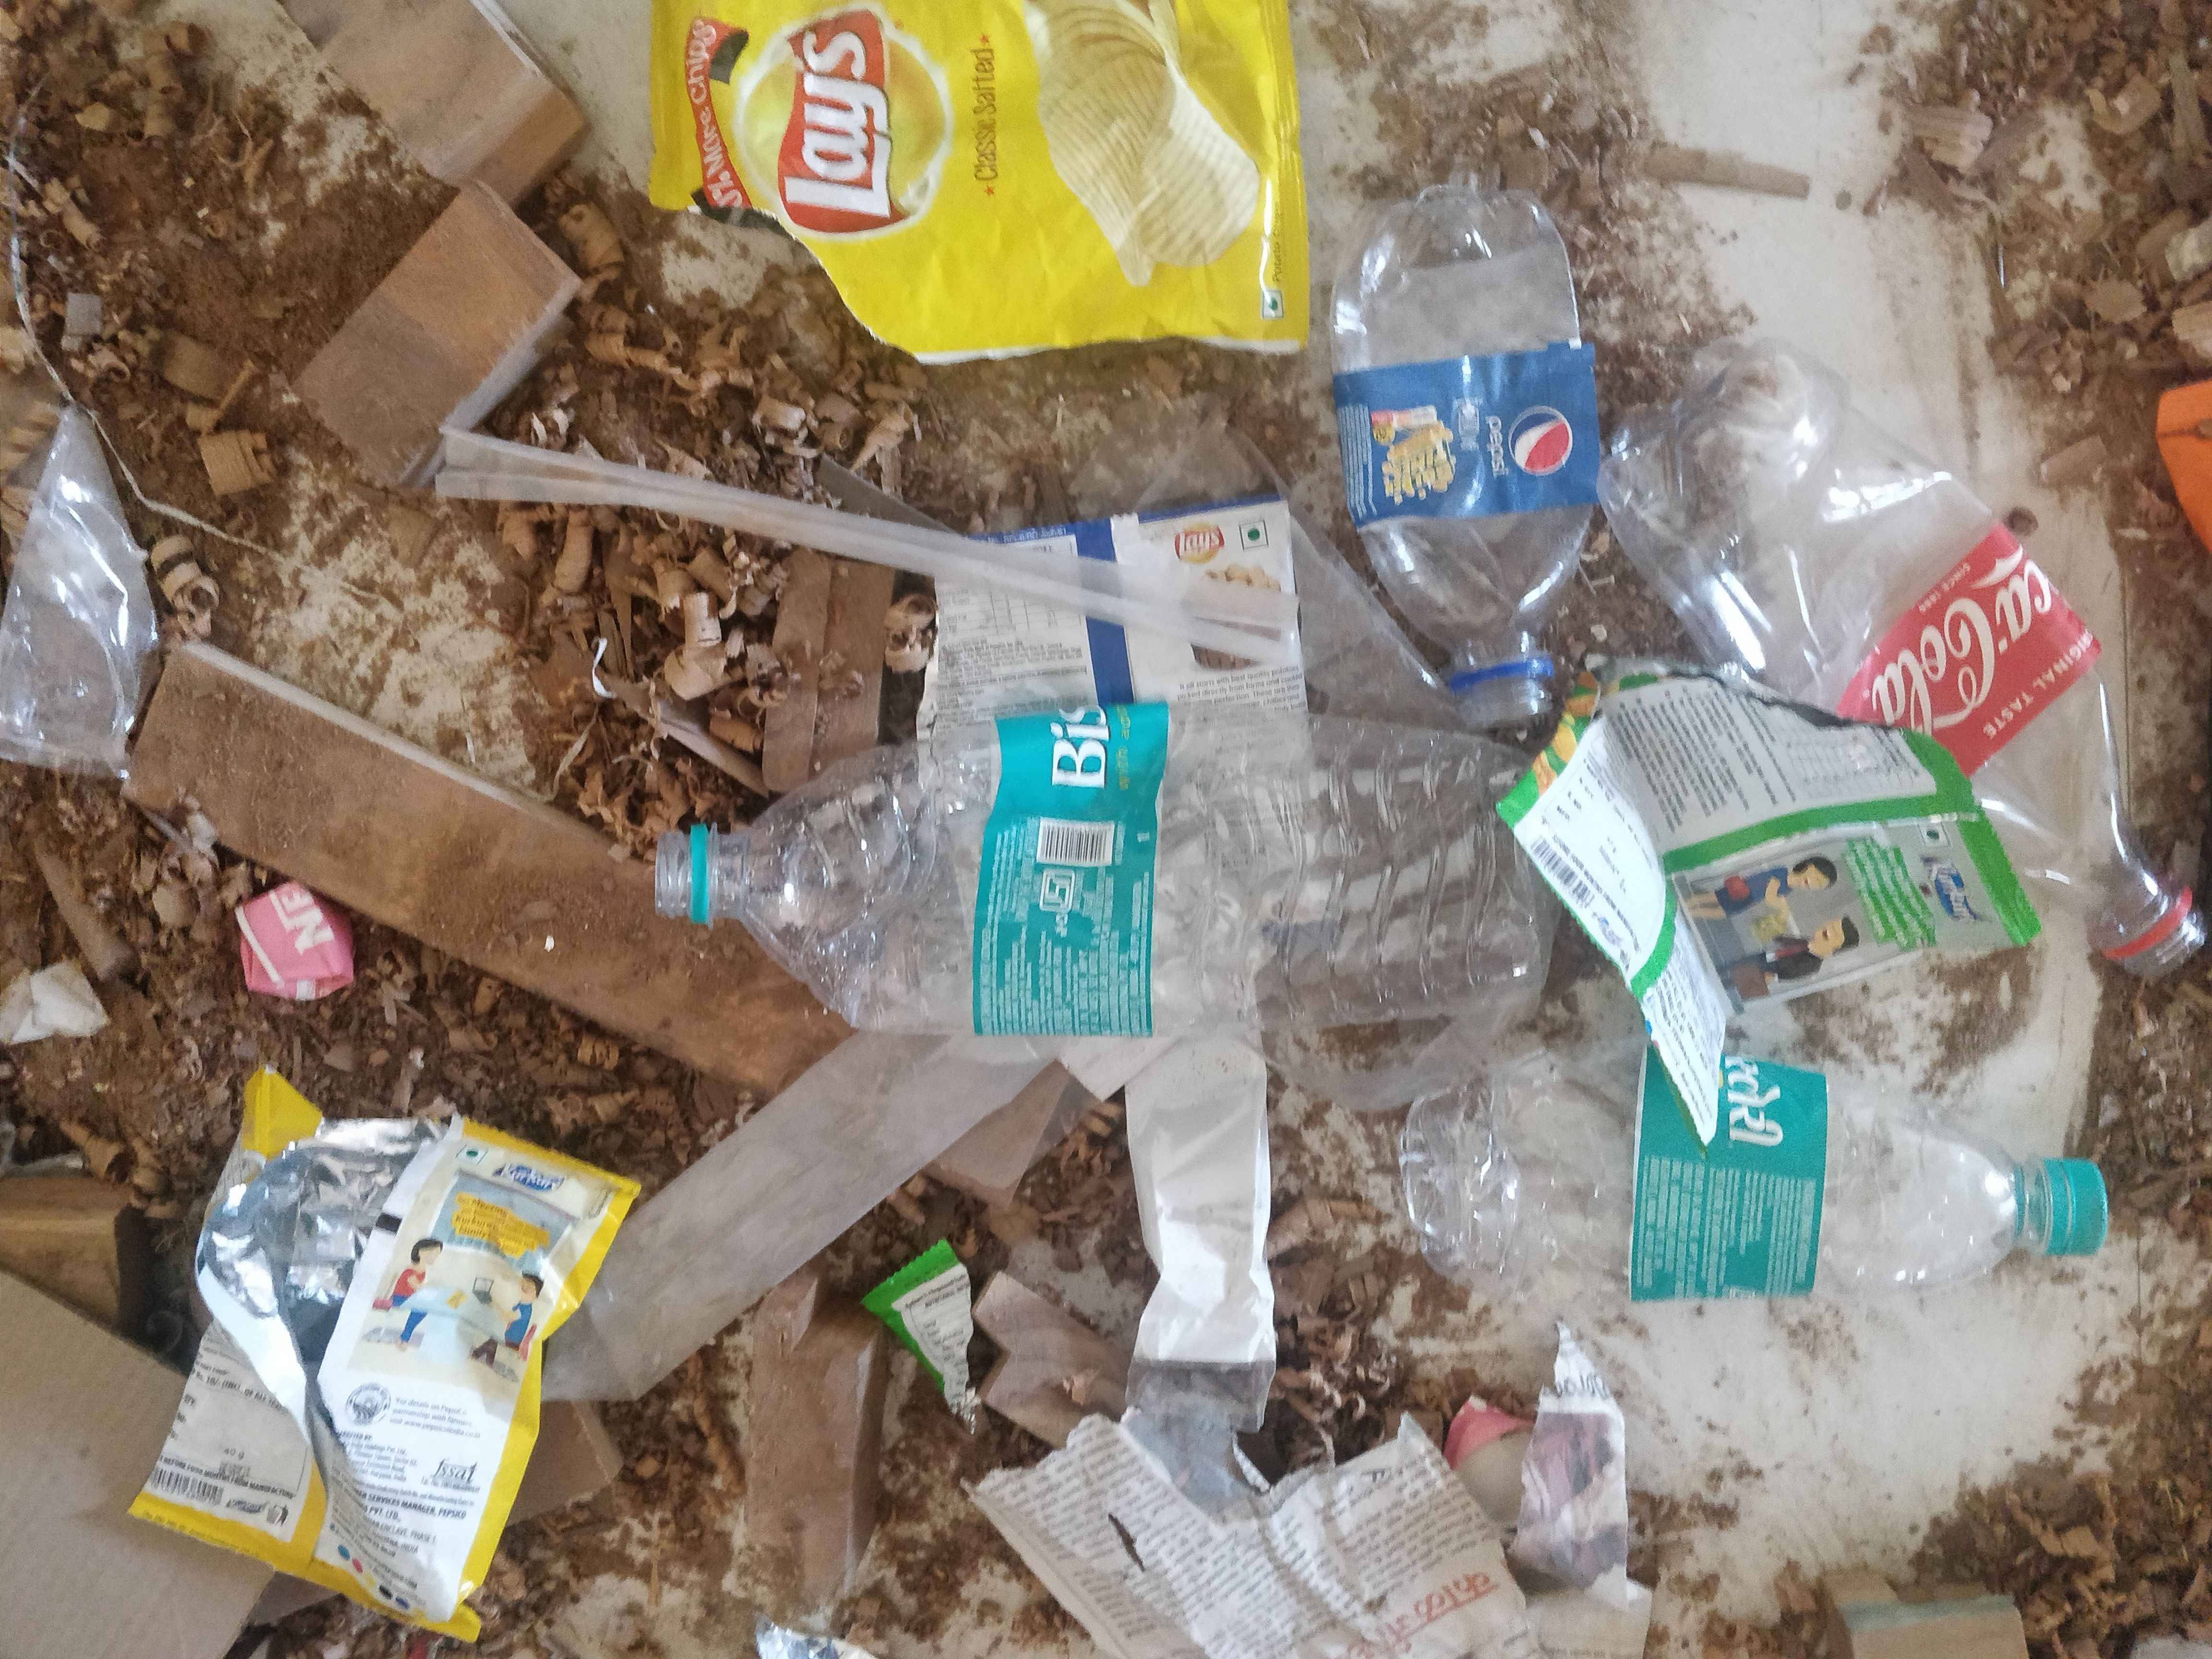Bisleri: (1007, 692, 1146, 1039), (1669, 1056, 1818, 1290)
Coca-Cola: (1855, 558, 2067, 727)
Lays: (735, 0, 988, 242), (1157, 512, 1242, 568)
kurkure: (1897, 821, 2000, 936), (467, 1141, 568, 1225)
pepsi: (1420, 357, 1594, 502)
